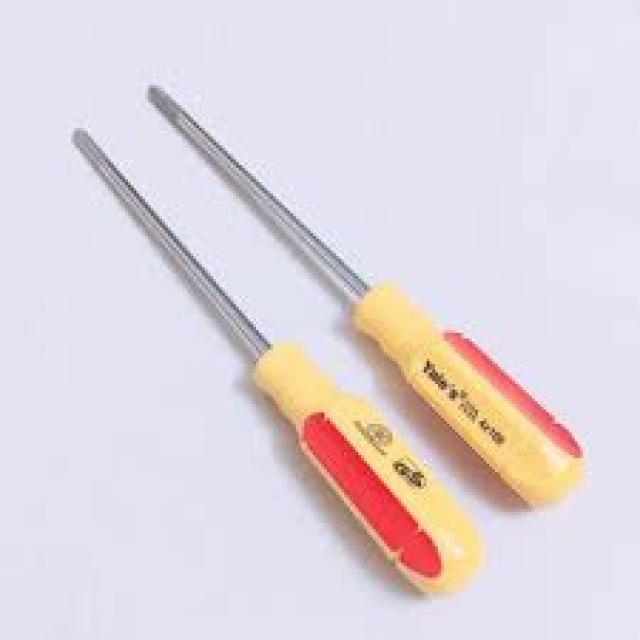screwdriver: (68, 125, 490, 600), (144, 81, 590, 511)
